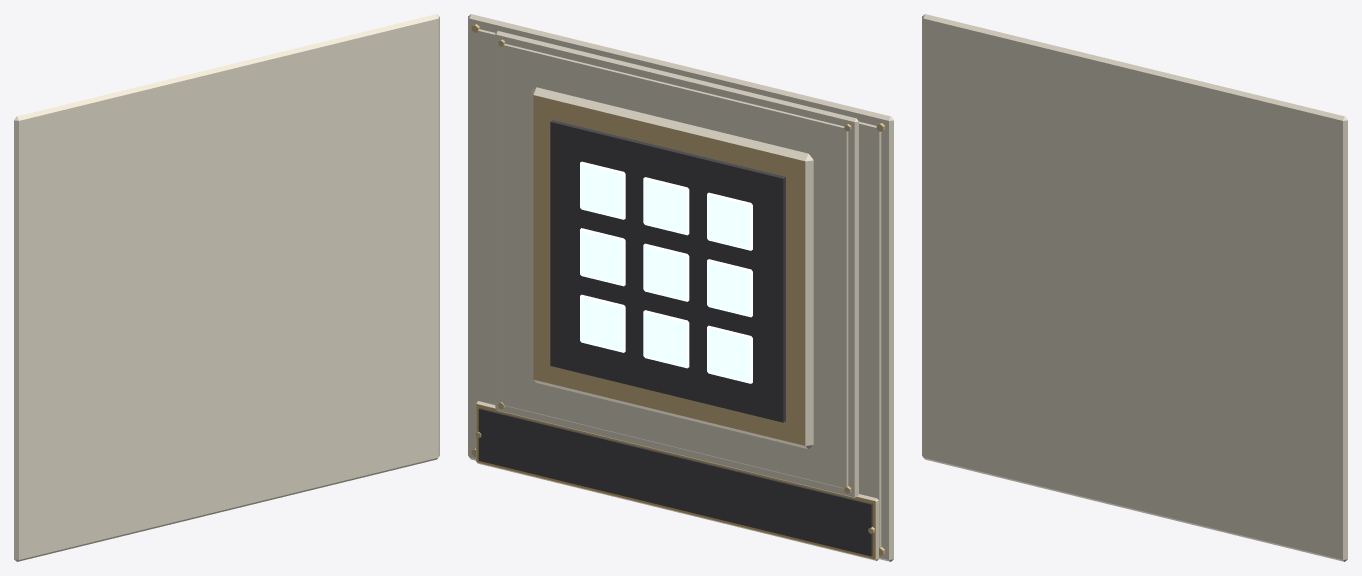
File: Disp_Glyph_2x2.fbx
3 views of the same model, side by side, from view 1: azimuth 30°, elevation 25°; view 2: azimuth 150°, elevation 25°; view 3: azimuth 330°, elevation 25° (orthographic).
Parts seen in each view (by area): view 1: Disp_Glyph_2x2; view 2: Disp_Glyph_2x2, Cell7.002, Cell1.002, Cell4.002, Cell2.002, Cell8.002, Cell0.002, Cell5.002, Cell6.002, Cell3.002; view 3: Disp_Glyph_2x2.
Part boxes in pixels (<box>): Disp_Glyph_2x2: <box>14,14,439,561</box>; Disp_Glyph_2x2: <box>468,14,893,561</box>; Cell7.002: <box>643,310,689,368</box>; Cell1.002: <box>643,177,689,235</box>; Cell4.002: <box>643,243,689,301</box>; Cell2.002: <box>707,192,752,250</box>; Cell8.002: <box>707,325,752,383</box>; Cell0.002: <box>580,161,625,219</box>; Cell5.002: <box>707,259,752,317</box>; Cell6.002: <box>580,294,625,352</box>; Cell3.002: <box>580,228,625,286</box>; Disp_Glyph_2x2: <box>922,14,1347,561</box>.
Size of the model in its own units: 2.06 by 2.06 by 0.1461.
